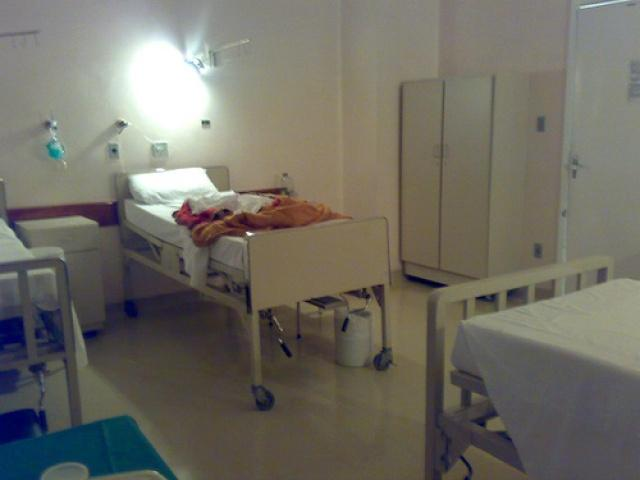Lemari: (397, 73, 492, 283)
